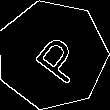P_NW: (21, 25, 84, 85)
